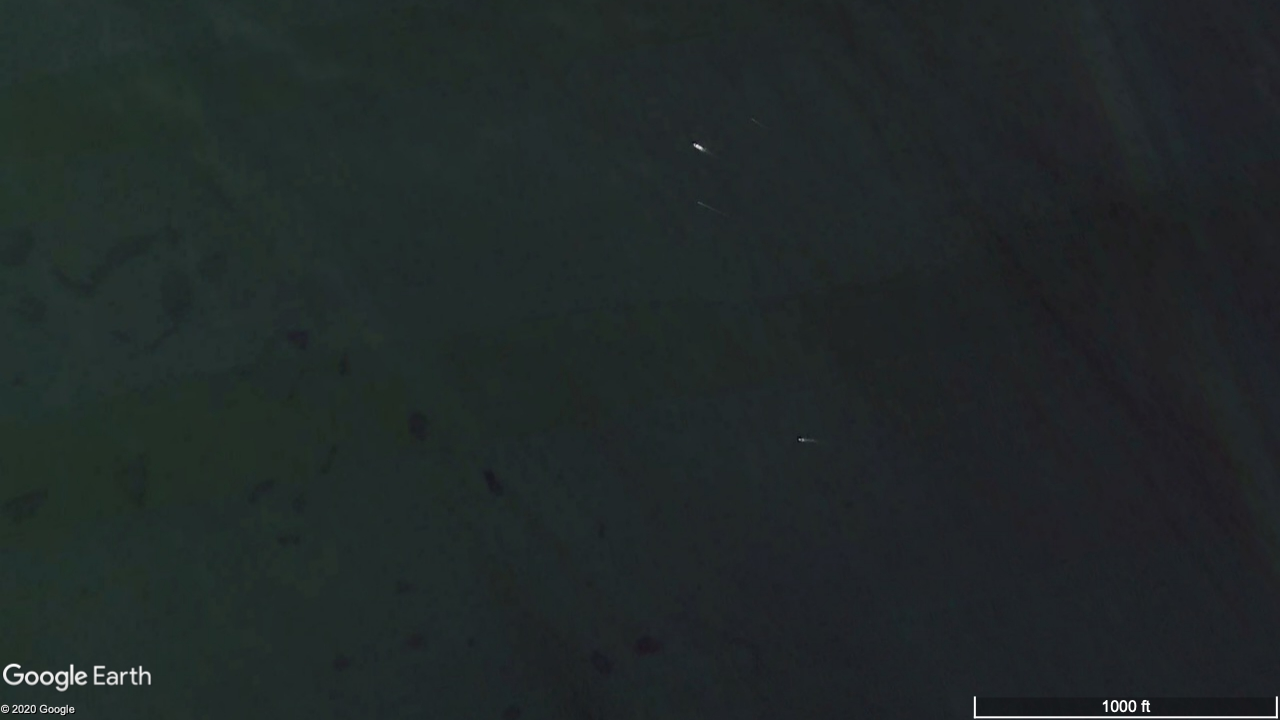satboat: (693, 143, 700, 149), (797, 437, 804, 442), (751, 117, 755, 121), (697, 201, 700, 205)
